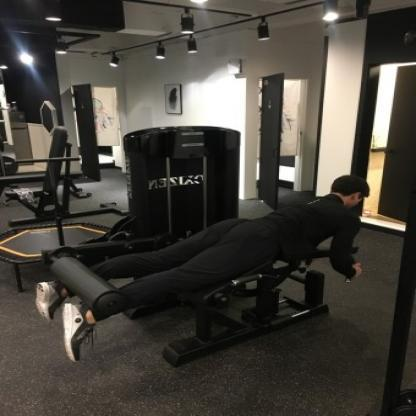reg curl machine: (34, 123, 368, 369)
